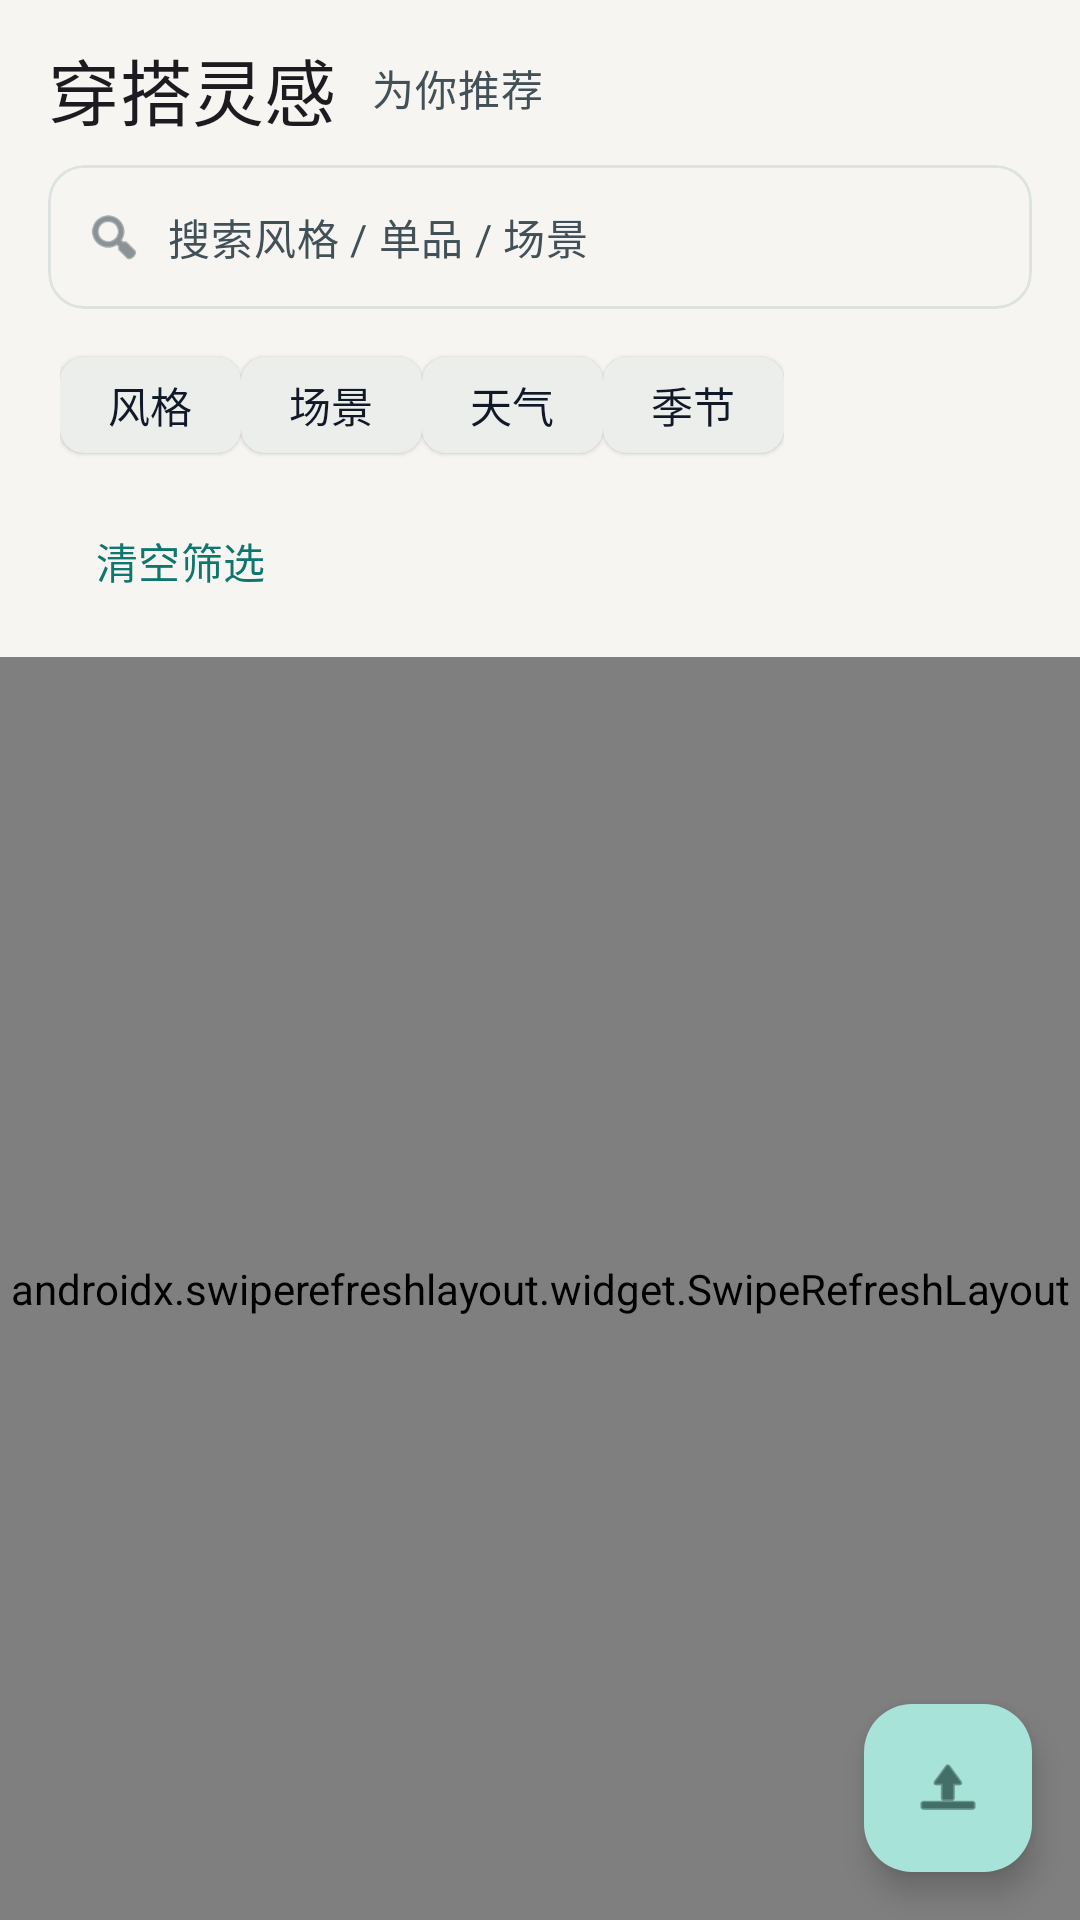

Icons on this 1080 x 1920 Android screen, each with its box as bbox(x1, y1, x2, y2):
上传穿搭: bbox(864, 1704, 1032, 1872)
